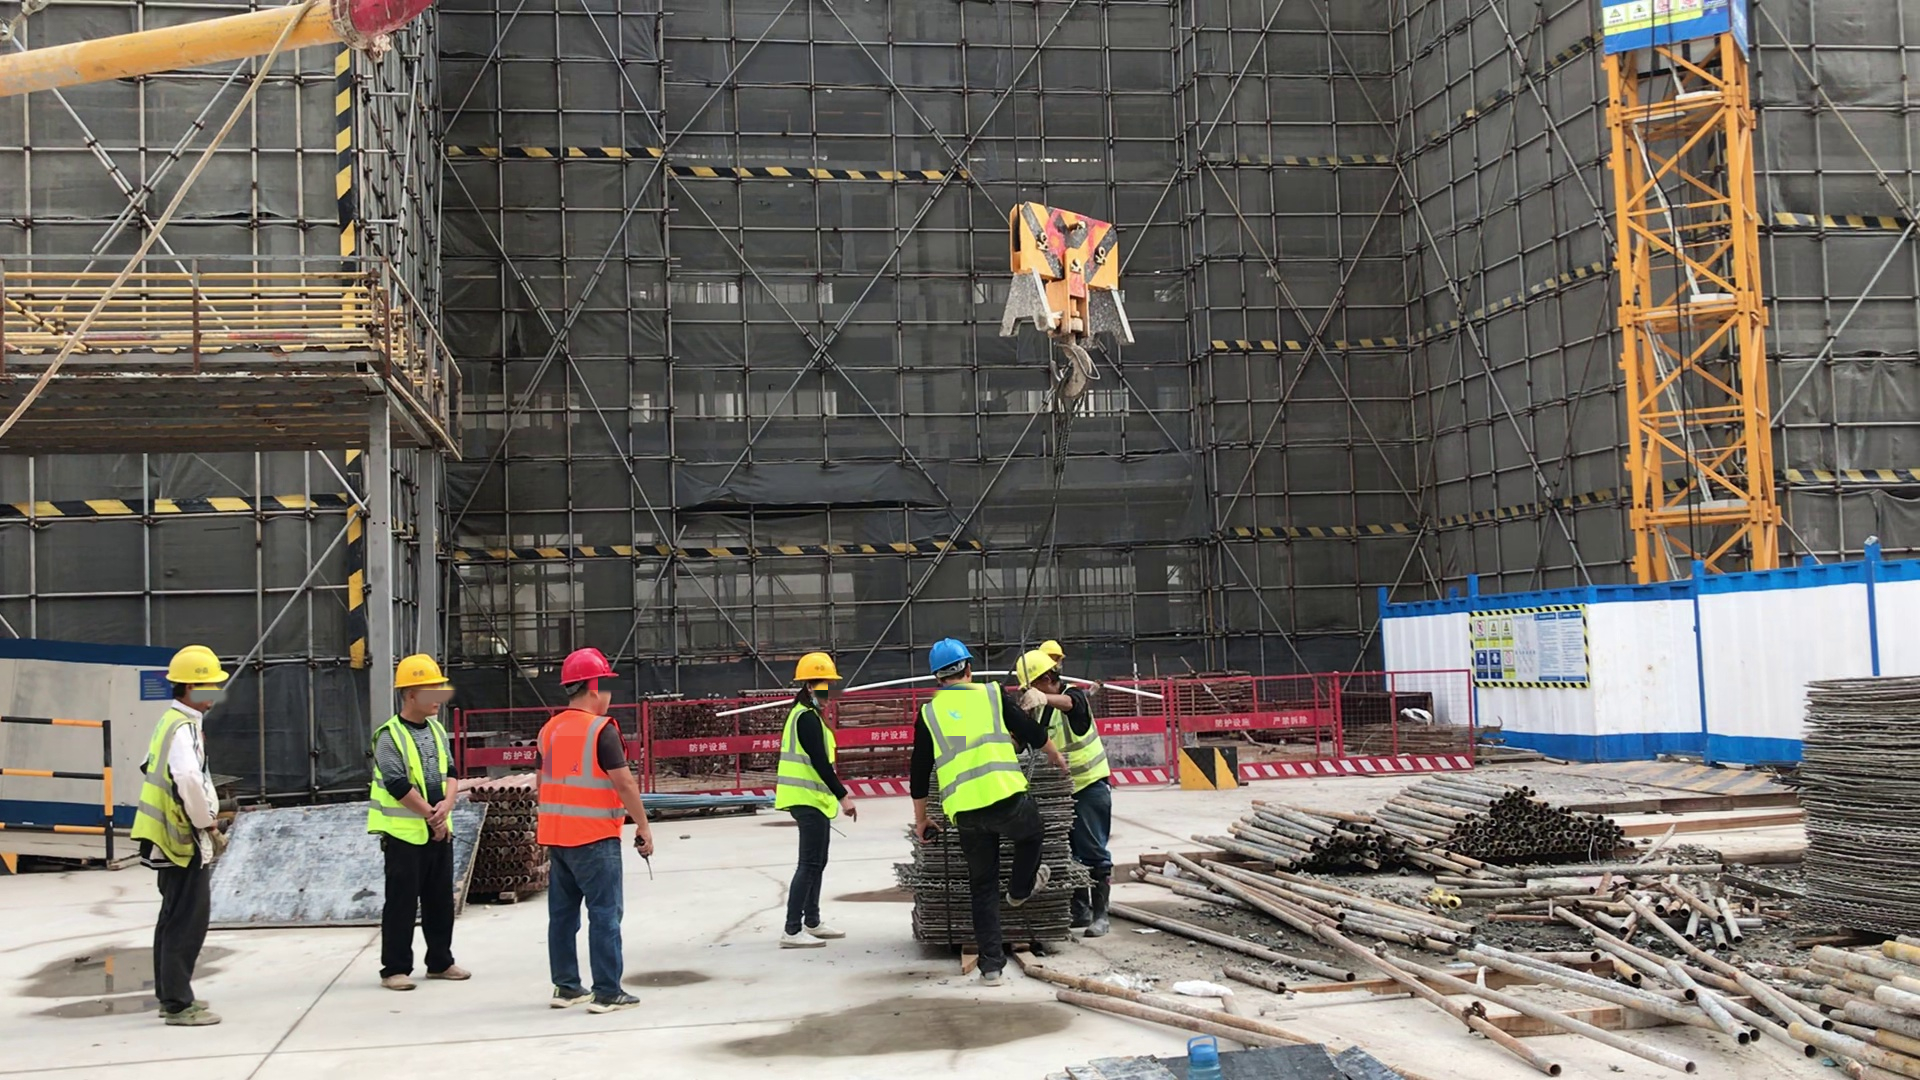fence: (1245, 667, 1477, 780), (4, 705, 117, 858), (650, 691, 771, 789), (1111, 674, 1180, 786)
helmet: (161, 645, 228, 686), (389, 655, 449, 693), (559, 651, 619, 688), (790, 654, 842, 685), (927, 641, 974, 673), (1016, 651, 1057, 687), (1040, 642, 1065, 658)
hook: (1002, 201, 1136, 398)
person: (906, 641, 1062, 992), (124, 643, 239, 1032), (534, 650, 655, 1015), (367, 654, 478, 994), (773, 652, 860, 952), (1013, 648, 1106, 761)
scaffold: (1407, 768, 1644, 869), (1777, 932, 1920, 1077), (1189, 797, 1410, 871), (480, 778, 540, 904)
slogan: (1470, 602, 1589, 693), (1592, 1, 1716, 45)
vest: (922, 682, 1032, 820), (533, 711, 627, 850), (367, 716, 456, 847), (131, 708, 201, 874), (779, 705, 844, 818), (1044, 688, 1111, 791)
